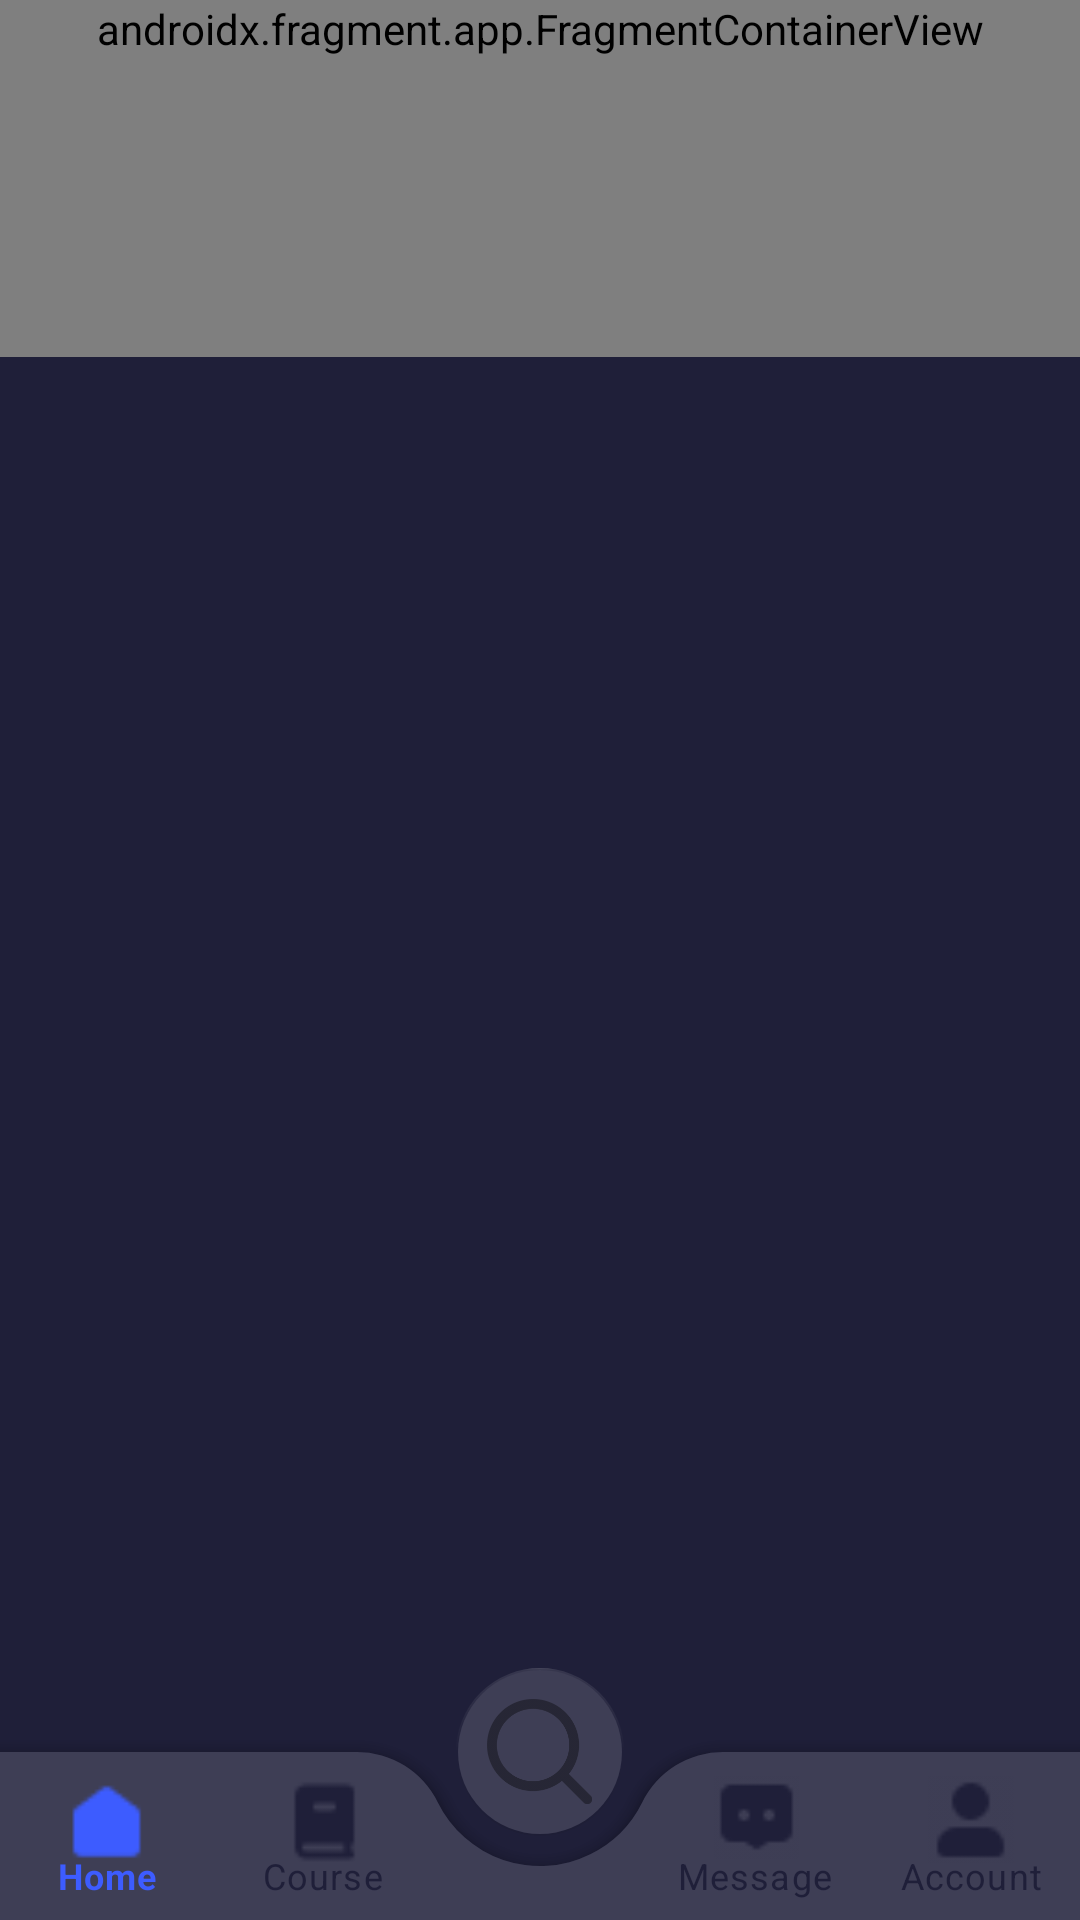

Icons on this 1080 × 1920 Android screen, each with its box as (x1,y1,x2,y2):
search: (458,1668,622,1834)
